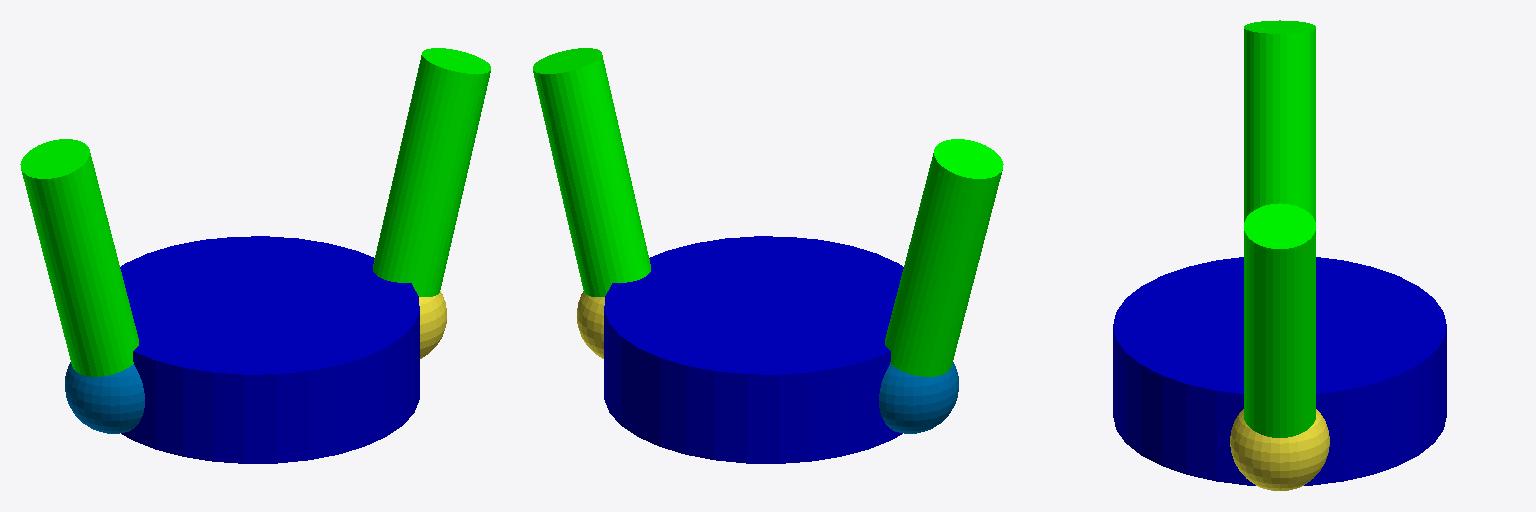
URDF robot description (gripper_2f_1j):
<?xml version='1.0' encoding='UTF-8'?>
<robot name="gripper_2f_1j">
  <link name="palm">
    <inertial>
      <origin xyz="0.0 0.0 0.0" rpy="0.0 -0.0 0.0"/>
      <mass value="1.0"/>
      <inertia ixx="1.0" ixy="0.0" ixz="0.0" iyy="1.0" iyz="0.0" izz="1.0"/>
    </inertial>
    <visual>
      <geometry>
        <cylinder radius="0.05" length="0.03"/>
      </geometry>
      <material name="blue"/>
      <origin xyz="0.0 0.0 0.0" rpy="0.0 -0.0 0.0"/>
    </visual>
    <collision>
      <geometry>
        <cylinder radius="0.05" length="0.03"/>
      </geometry>
      <origin xyz="0.0 0.0 0.0" rpy="0.0 0.0 0.0"/>
    </collision>
  </link>
  <link name="f11">
    <inertial>
      <origin xyz="0.0 0.0 0.0" rpy="0.0 -0.0 0.0"/>
      <mass value="1.0"/>
      <inertia ixx="1.0" ixy="0.0" ixz="0.0" iyy="1.0" iyz="0.0" izz="1.0"/>
    </inertial>
    <visual>
      <geometry>
        <cylinder radius="0.010859052153035512" length="0.08328211028707128"/>
      </geometry>
      <material name="green"/>
      <origin xyz="0.0 0.0 0.04164105514353564" rpy="0.0 -0.0 0.0"/>
    </visual>
    <collision>
      <geometry>
        <cylinder radius="0.010859052153035512" length="0.08328211028707128"/>
      </geometry>
      <origin xyz="0.0 0.0 0.05" rpy="0.0 0.0 0.0"/>
    </collision>
  </link>
  <link name="f21">
    <inertial>
      <origin xyz="0.0 0.0 0.0" rpy="0.0 -0.0 0.0"/>
      <mass value="1.0"/>
      <inertia ixx="1.0" ixy="0.0" ixz="0.0" iyy="1.0" iyz="0.0" izz="1.0"/>
    </inertial>
    <visual>
      <geometry>
        <cylinder radius="0.010859052153035512" length="0.08328211028707128"/>
      </geometry>
      <material name="green"/>
      <origin xyz="0.0 0.0 0.04164105514353564" rpy="0.0 -0.0 0.0"/>
    </visual>
    <collision>
      <geometry>
        <cylinder radius="0.010859052153035512" length="0.08328211028707128"/>
      </geometry>
      <origin xyz="0.0 0.0 0.05" rpy="0.0 0.0 0.0"/>
    </collision>
  </link>
  <link name="f11_base">
    <inertial>
      <origin xyz="0.0 0.0 0.0" rpy="0.0 -0.0 0.0"/>
      <mass value="1.0"/>
      <inertia ixx="1.0" ixy="0.0" ixz="0.0" iyy="1.0" iyz="0.0" izz="1.0"/>
    </inertial>
    <visual>
      <geometry>
        <sphere radius="0.015"/>
      </geometry>
      <origin xyz="0.0 0.0 0.0" rpy="0.0 -0.0 0.0"/>
    </visual>
  </link>
  <link name="f21_base">
    <inertial>
      <origin xyz="0.0 0.0 0.0" rpy="0.0 -0.0 0.0"/>
      <mass value="1.0"/>
      <inertia ixx="1.0" ixy="0.0" ixz="0.0" iyy="1.0" iyz="0.0" izz="1.0"/>
    </inertial>
    <visual>
      <geometry>
        <sphere radius="0.015"/>
      </geometry>
      <origin xyz="0.0 0.0 0.0" rpy="0.0 -0.0 0.0"/>
    </visual>
  </link>
  <joint name="f11_joint" type="revolute">
    <dynamics damping="100.0" friction="1.0"/>
    <limit effort="30.0" velocity="2.0" lower="-0.6" upper="0.25"/>
    <parent link="f11_base"/>
    <child link="f11"/>
    <axis xyz="0. 1. 0."/>
    <origin xyz="0.0 0.0 0.0" rpy="0.0 0.25 0.0"/>
  </joint>
  <joint name="f21_joint" type="revolute">
    <dynamics damping="100.0" friction="1.0"/>
    <limit effort="30.0" velocity="2.0" lower="-0.6" upper="0.25"/>
    <parent link="f21_base"/>
    <child link="f21"/>
    <axis xyz=" 0. -1.  0."/>
    <origin xyz="0.0 0.0 0.0" rpy="0.0 -0.25 0.0"/>
  </joint>
  <joint name="f11_base_joint" type="fixed">
    <parent link="palm"/>
    <child link="f11_base"/>
    <axis xyz="1. 0. 0."/>
    <origin xyz="0.05 0.0 0.0" rpy="0.0 0.0 0.0"/>
  </joint>
  <joint name="f21_base_joint" type="fixed">
    <parent link="palm"/>
    <child link="f21_base"/>
    <axis xyz="1. 0. 0."/>
    <origin xyz="-0.05 -0.0 0.0" rpy="0.0 0.0 0.0"/>
  </joint>
  <material name="blue">
    <color rgba="0.  0.  0.8 1. "/>
  </material>
  <material name="green">
    <color rgba="0. 1. 0. 1."/>
  </material>
</robot>

--- Facts derived from the render (not from the file) ---
The picture shows the robot from 3 angles, left to right: view 1: azimuth 30°, elevation 25°; view 2: azimuth 150°, elevation 25°; view 3: azimuth 270°, elevation 25°; orthographic projection.
Model gripper_2f_1j with 5 links and 4 joints (2 revolute, 2 fixed), rooted at palm, posed all joints at 0.
Links seen in each view (by area): view 1: palm, f11, f21, f21_base, f11_base; view 2: palm, f11, f21, f21_base, f11_base; view 3: palm, f11, f21, f11_base.
Link boxes in pixels (bbox=[...]): palm: bbox=[120, 236, 419, 463]; f11: bbox=[373, 48, 490, 296]; f21: bbox=[20, 139, 138, 376]; f21_base: bbox=[65, 362, 144, 433]; f11_base: bbox=[419, 291, 446, 358]; palm: bbox=[604, 236, 903, 463]; f11: bbox=[533, 48, 650, 296]; f21: bbox=[885, 139, 1003, 376]; f21_base: bbox=[879, 362, 958, 433]; f11_base: bbox=[577, 291, 604, 358]; palm: bbox=[1113, 257, 1446, 485]; f11: bbox=[1244, 203, 1315, 437]; f21: bbox=[1244, 20, 1315, 221]; f11_base: bbox=[1230, 409, 1329, 490].
Size in the robot's own frame: 0.1623 by 0.1 by 0.0984 metres.
Geometry: primitives only (box / cylinder / sphere), no mesh files.